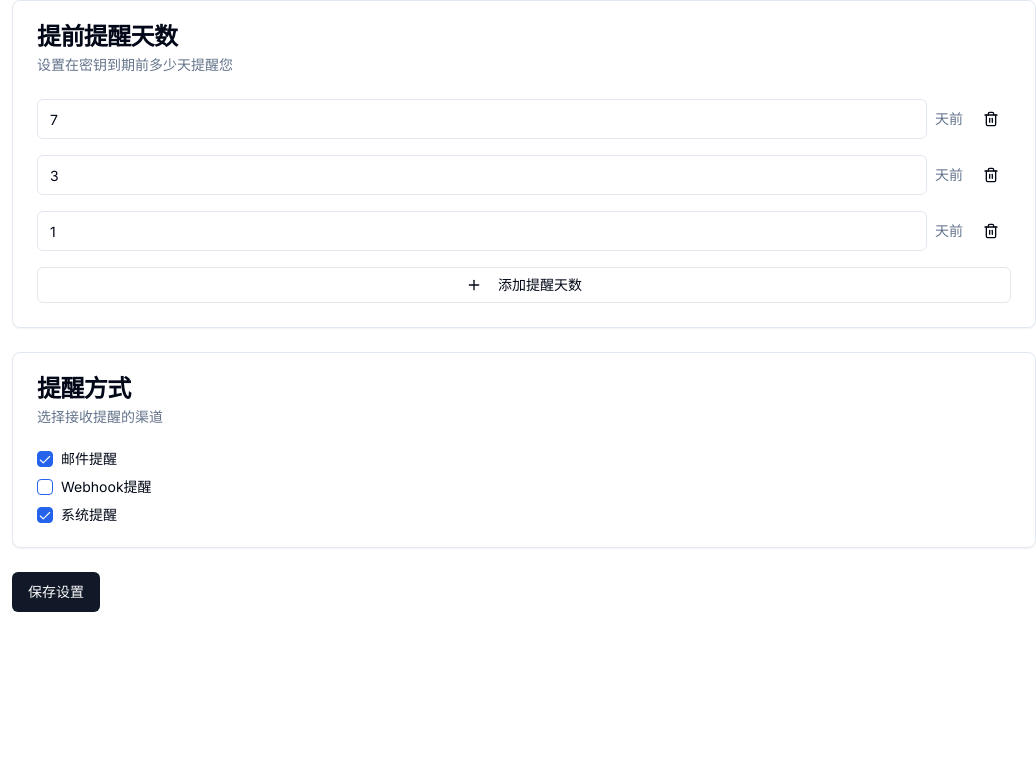
Scenario: ExpirationTab › 提醒天数设置 › 应该支持添加新的提醒天数
Click the button "添加提醒天数" at coordinates (524, 285), box [37,267,1011,303]
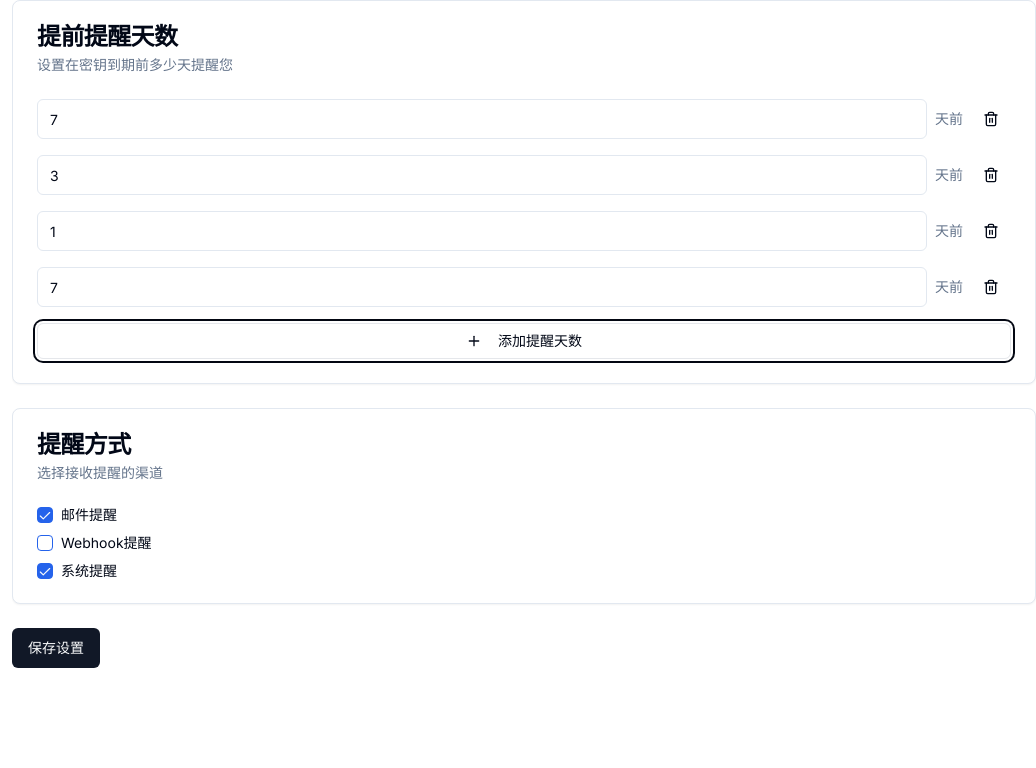
Expected: the number of number fields is 4, [37,99,927,139]; [37,155,927,195]; [37,211,927,251]; [37,267,927,307]
